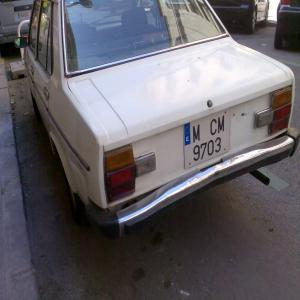Vehicle-registration-plate: (184, 109, 231, 170), (18, 11, 33, 20)
